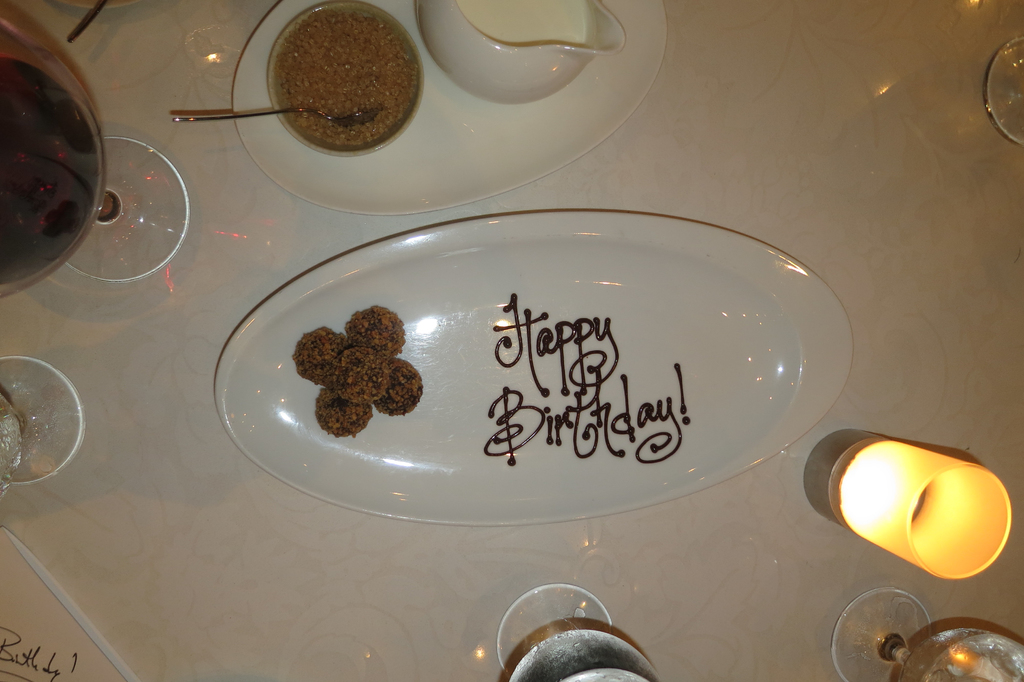plate: (236, 170, 839, 548)
